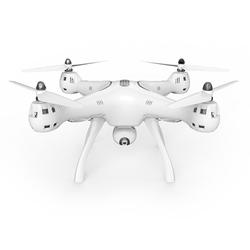drone: (8, 57, 241, 187)
